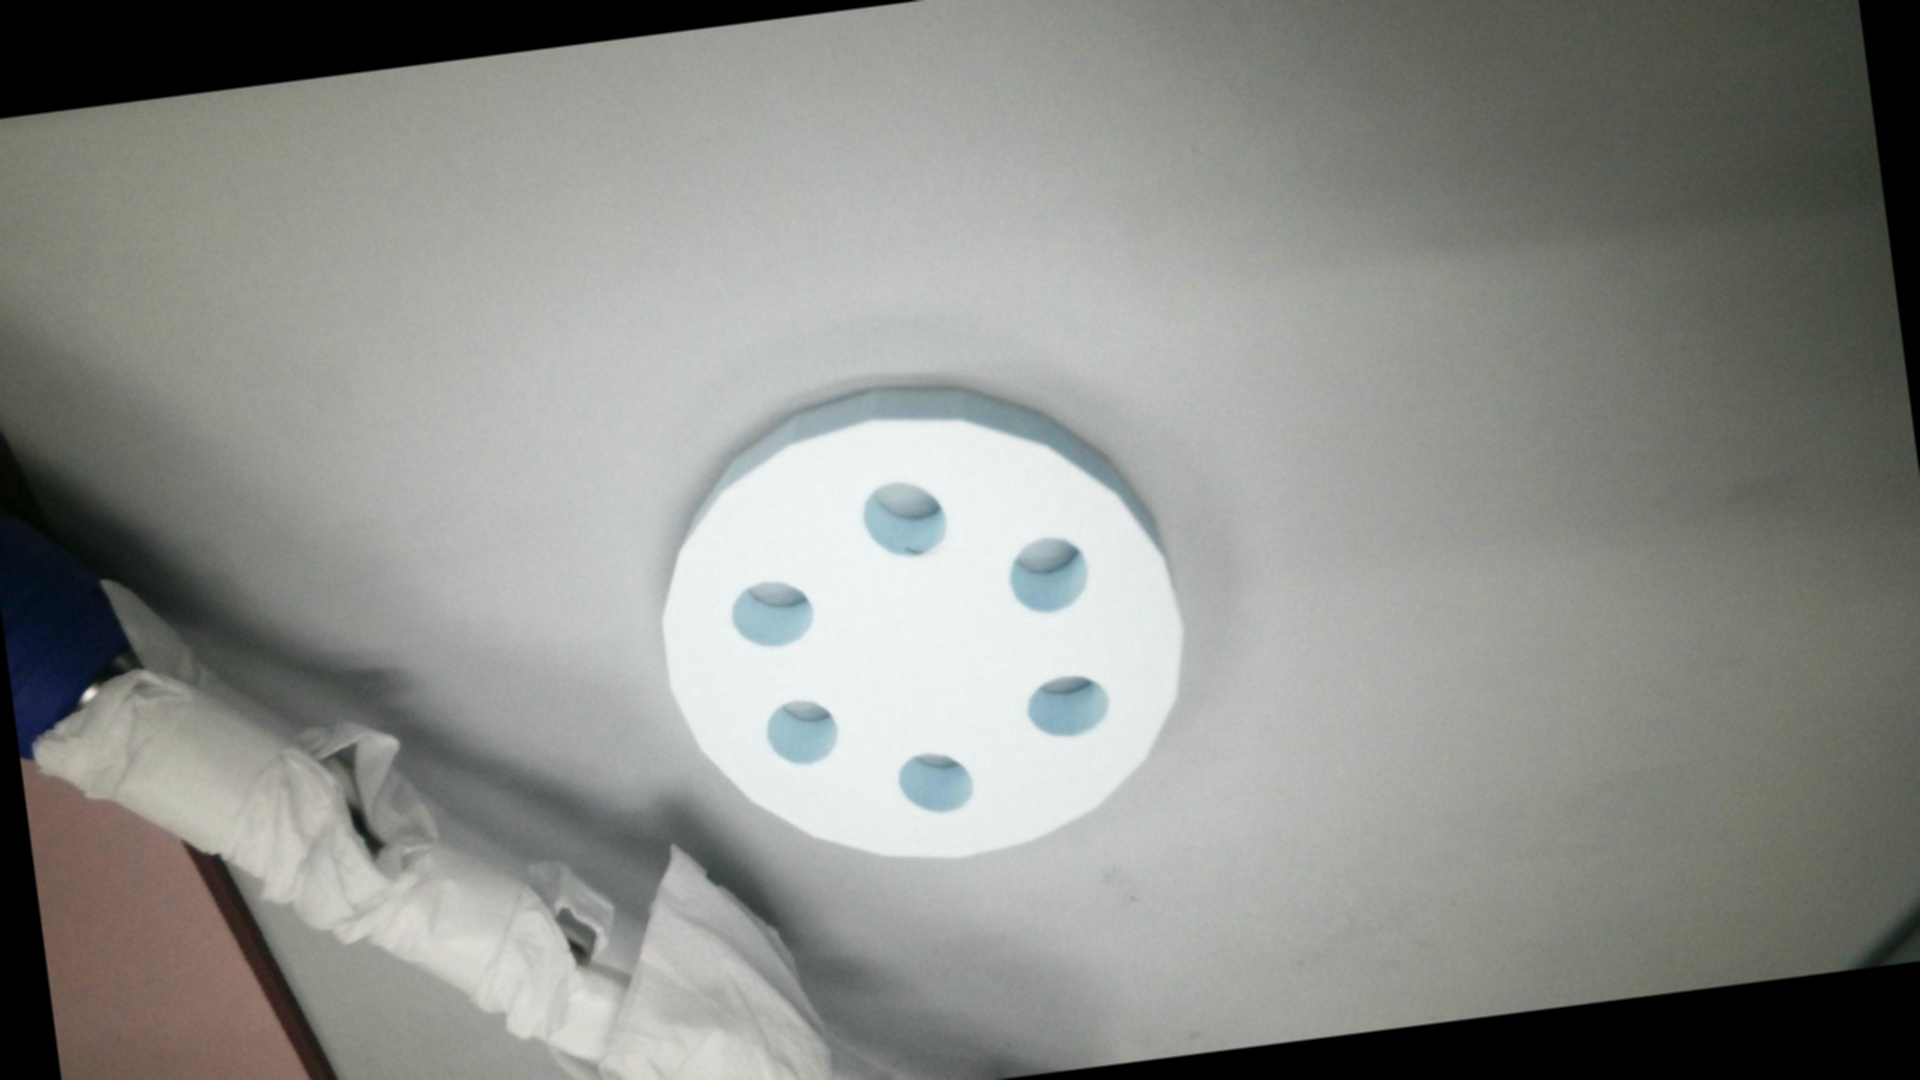hole: (716, 574, 822, 655), (882, 742, 978, 822), (862, 476, 947, 566), (1006, 534, 1091, 621), (1022, 670, 1114, 746), (758, 698, 837, 771)
obj: (621, 336, 1232, 905)
